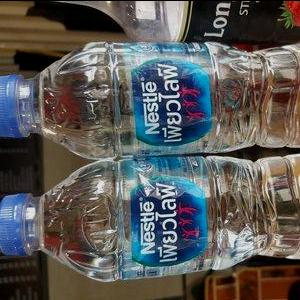bottle: (0, 148, 300, 284), (0, 34, 300, 164)
